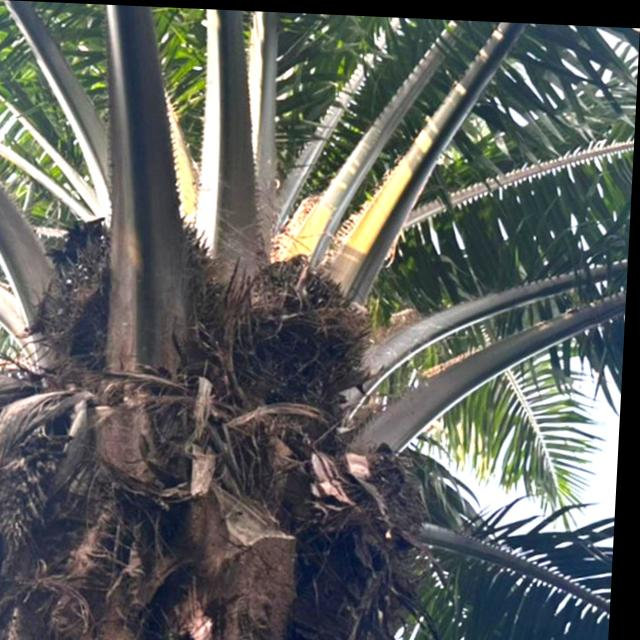unripe: (216, 252, 380, 397)
